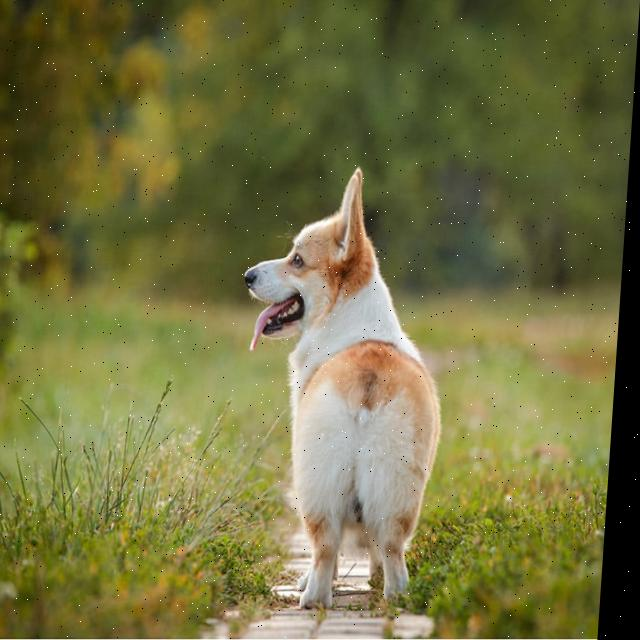CORGI: (230, 160, 474, 630)
